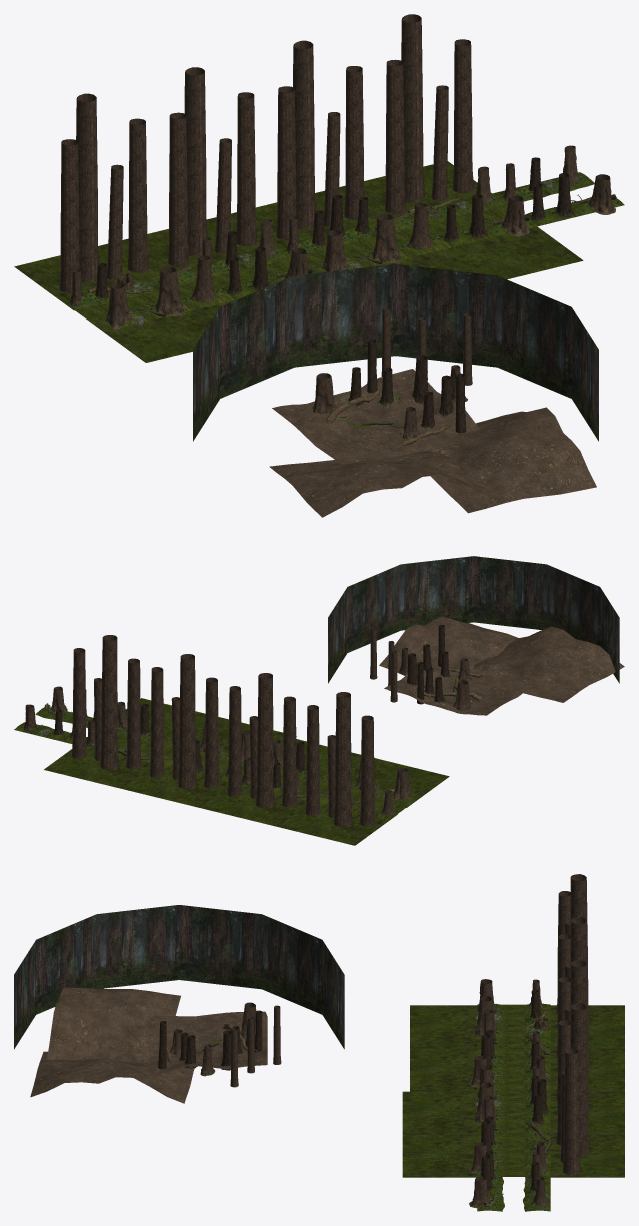
The model's file is env_speederbike_01_pre.glb.
3 views of the same model, one above another, from view 1: azimuth 30°, elevation 25°; view 2: azimuth 150°, elevation 25°; view 3: azimuth 270°, elevation 25° (orthographic). The views are drawn at different scales.
Parts seen in each view (by area): view 1: end_forest_skybox_mesh, ground_hill_mesh (×2), end_speederbike_ground_bgcluster_01 (×6), end_speederbike_tree_bg (3) (×4), end_speederbike_tree_bg (2) (×4), end_speederbike_tree_bg (×4), end_creek_ground, end_speederbike_tree_bg (1) (×4), end_speederbike_tree_03 (×6), end_speederbike_tree_02 (×2), end_tree_03; view 2: end_forest_skybox_mesh, end_speederbike_ground_bgcluster_01 (×8), ground_hill_mesh (×2), end_speederbike_tree_bg (3) (×4), end_speederbike_tree_bg (×4), end_speederbike_tree_bg (2) (×4), end_creek_ground, end_speederbike_tree_bg (1) (×4), end_speederbike_tree_03, end_tree_03; view 3: end_forest_skybox_mesh, end_speederbike_ground_bgcluster_01 (×8), ground_hill_mesh (×2), end_speederbike_tree_bg (3) (×4), end_creek_ground, end_speederbike_tree_bg (×4), end_speederbike_tree_bg (2).
Boxes of the visible parts, x1,y1,x2,y2 form: end_forest_skybox_mesh: (193, 264, 598, 441); ground_hill_mesh (×2): (269, 407, 596, 517); end_speederbike_ground_bgcluster_01 (×6): (14, 161, 583, 362); end_speederbike_tree_bg (3) (×4): (76, 14, 424, 281); end_speederbike_tree_bg (2) (×4): (127, 39, 473, 272); end_speederbike_tree_bg (×4): (59, 59, 405, 292); end_creek_ground: (272, 369, 480, 464); end_speederbike_tree_bg (1) (×4): (107, 85, 448, 279); end_speederbike_tree_03 (×6): (105, 174, 615, 329); end_speederbike_tree_02 (×2): (190, 202, 433, 302); end_tree_03: (312, 373, 336, 413); end_forest_skybox_mesh: (328, 556, 619, 683); end_speederbike_ground_bgcluster_01 (×8): (44, 698, 449, 845); ground_hill_mesh (×2): (379, 616, 624, 702); end_speederbike_tree_bg (3) (×4): (100, 635, 352, 827); end_speederbike_tree_bg (×4): (126, 658, 374, 826); end_speederbike_tree_bg (2) (×4): (71, 648, 320, 815); end_creek_ground: (384, 661, 536, 715); end_speederbike_tree_bg (1) (×4): (94, 678, 335, 818); end_speederbike_tree_03: (393, 768, 413, 800); end_tree_03: (453, 680, 471, 713); end_forest_skybox_mesh: (14, 905, 344, 1049); end_speederbike_ground_bgcluster_01 (×8): (402, 1005, 624, 1177); ground_hill_mesh (×2): (30, 987, 194, 1103); end_speederbike_tree_bg (3) (×4): (570, 874, 589, 1156); end_creek_ground: (148, 1011, 267, 1073); end_speederbike_tree_bg (×4): (556, 891, 570, 1145); end_speederbike_tree_bg (2): (563, 1048, 580, 1174).
Size of the model in its own units: 271 by 83.25 by 300.
Materials: 18 (18 with a texture image).
